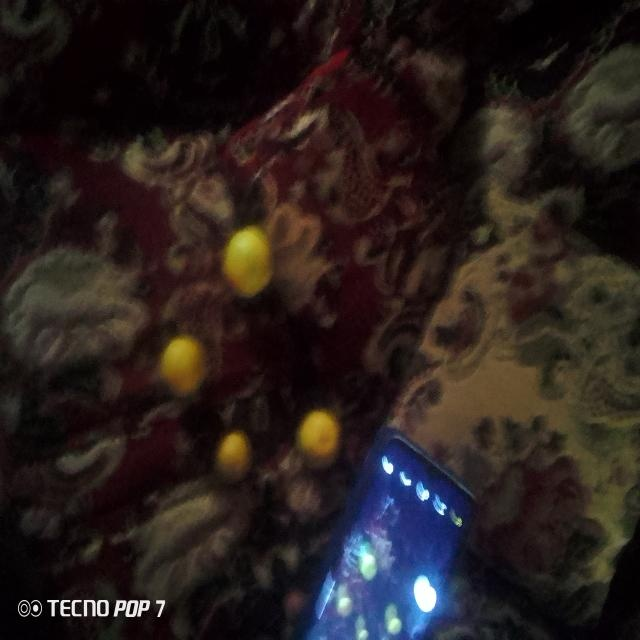agrume: (217, 226, 275, 299), (161, 330, 206, 398), (295, 406, 339, 470), (219, 428, 253, 484)
